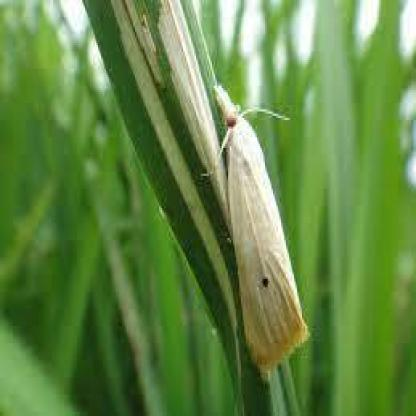stem-borer: (210, 80, 310, 381)
